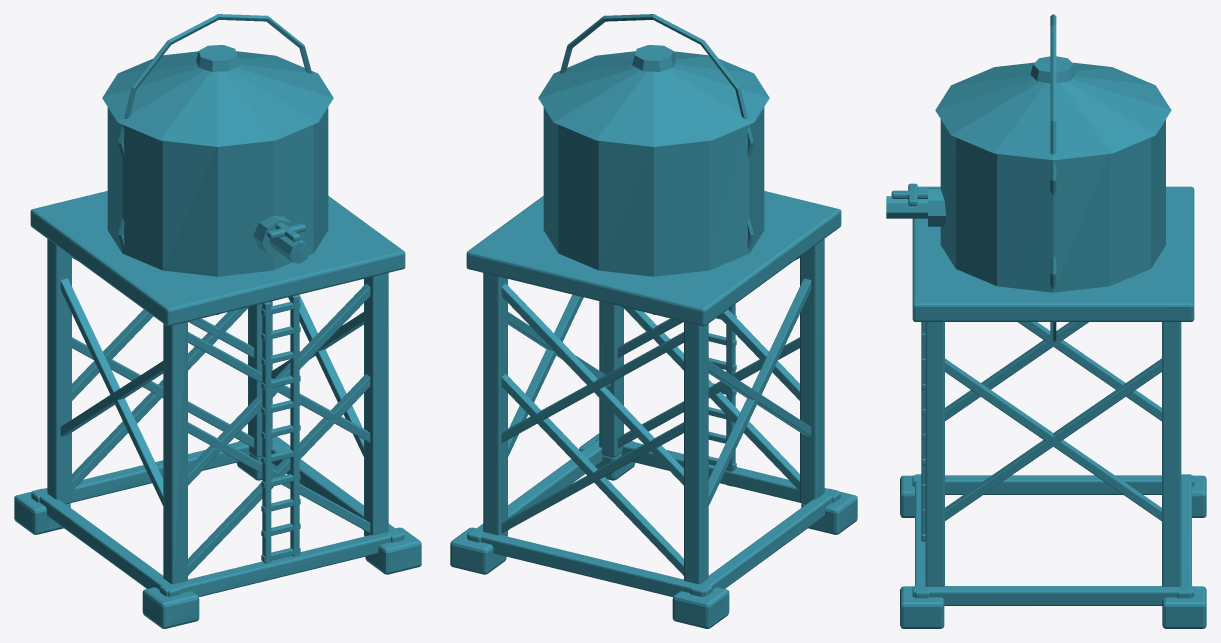
Rendered from Water-Tower.glb.
3 views of the same model, side by side, from view 1: azimuth 30°, elevation 25°; view 2: azimuth 150°, elevation 25°; view 3: azimuth 270°, elevation 25° (orthographic). The views are drawn at different scales.
Visible parts, largest first — view 1: water-tower-static-tower-charcoal-steel-mat, water-tower-static-tower-blue-grey-tank-mat, water-tower-static-tower-concrete-mat; view 2: water-tower-static-tower-charcoal-steel-mat, water-tower-static-tower-blue-grey-tank-mat, water-tower-static-tower-concrete-mat; view 3: water-tower-static-tower-blue-grey-tank-mat, water-tower-static-tower-charcoal-steel-mat, water-tower-static-tower-concrete-mat, water-tower-static-tower-brass-valve-mat.
Boxes of the visible parts, x1,y1,x2,y2 form: water-tower-static-tower-charcoal-steel-mat: [30, 14, 405, 584]; water-tower-static-tower-blue-grey-tank-mat: [102, 51, 333, 276]; water-tower-static-tower-concrete-mat: [14, 436, 421, 628]; water-tower-static-tower-charcoal-steel-mat: [466, 14, 841, 584]; water-tower-static-tower-blue-grey-tank-mat: [538, 51, 769, 276]; water-tower-static-tower-concrete-mat: [450, 433, 857, 628]; water-tower-static-tower-blue-grey-tank-mat: [935, 62, 1171, 292]; water-tower-static-tower-charcoal-steel-mat: [886, 14, 1194, 586]; water-tower-static-tower-concrete-mat: [900, 474, 1206, 628]; water-tower-static-tower-brass-valve-mat: [891, 183, 927, 205].
Size of the model in its own units: 3.32 by 6.47 by 3.47.
